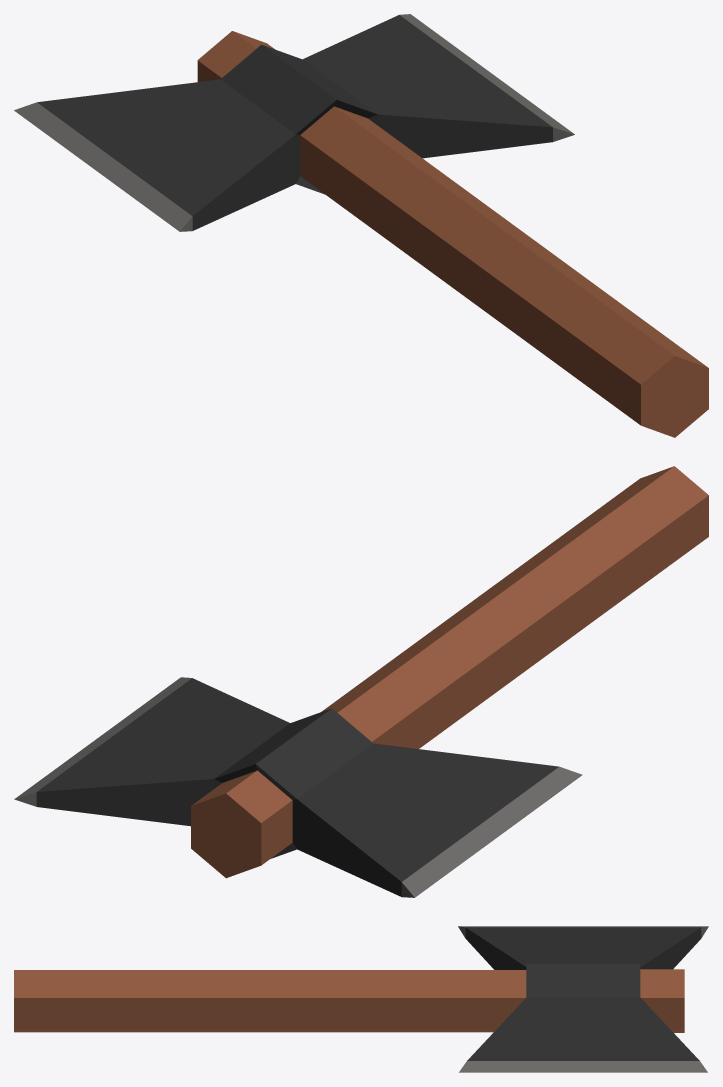
The model's file is axe_double_side.fbx.
3 views of the same model, one above another, from view 1: azimuth 30°, elevation 25°; view 2: azimuth 150°, elevation 25°; view 3: azimuth 270°, elevation 25° (orthographic). The views are drawn at different scales.
Parts seen in each view (by area): view 1: ax_two_side; view 2: ax_two_side; view 3: ax_two_side.
Boxes of the visible parts, x1,y1,x2,y2 form: ax_two_side: (14,14,708,437); ax_two_side: (14,466,708,897); ax_two_side: (14,926,708,1072).
Size of the model in its own units: 15.4 by 3.68 by 30.89.
